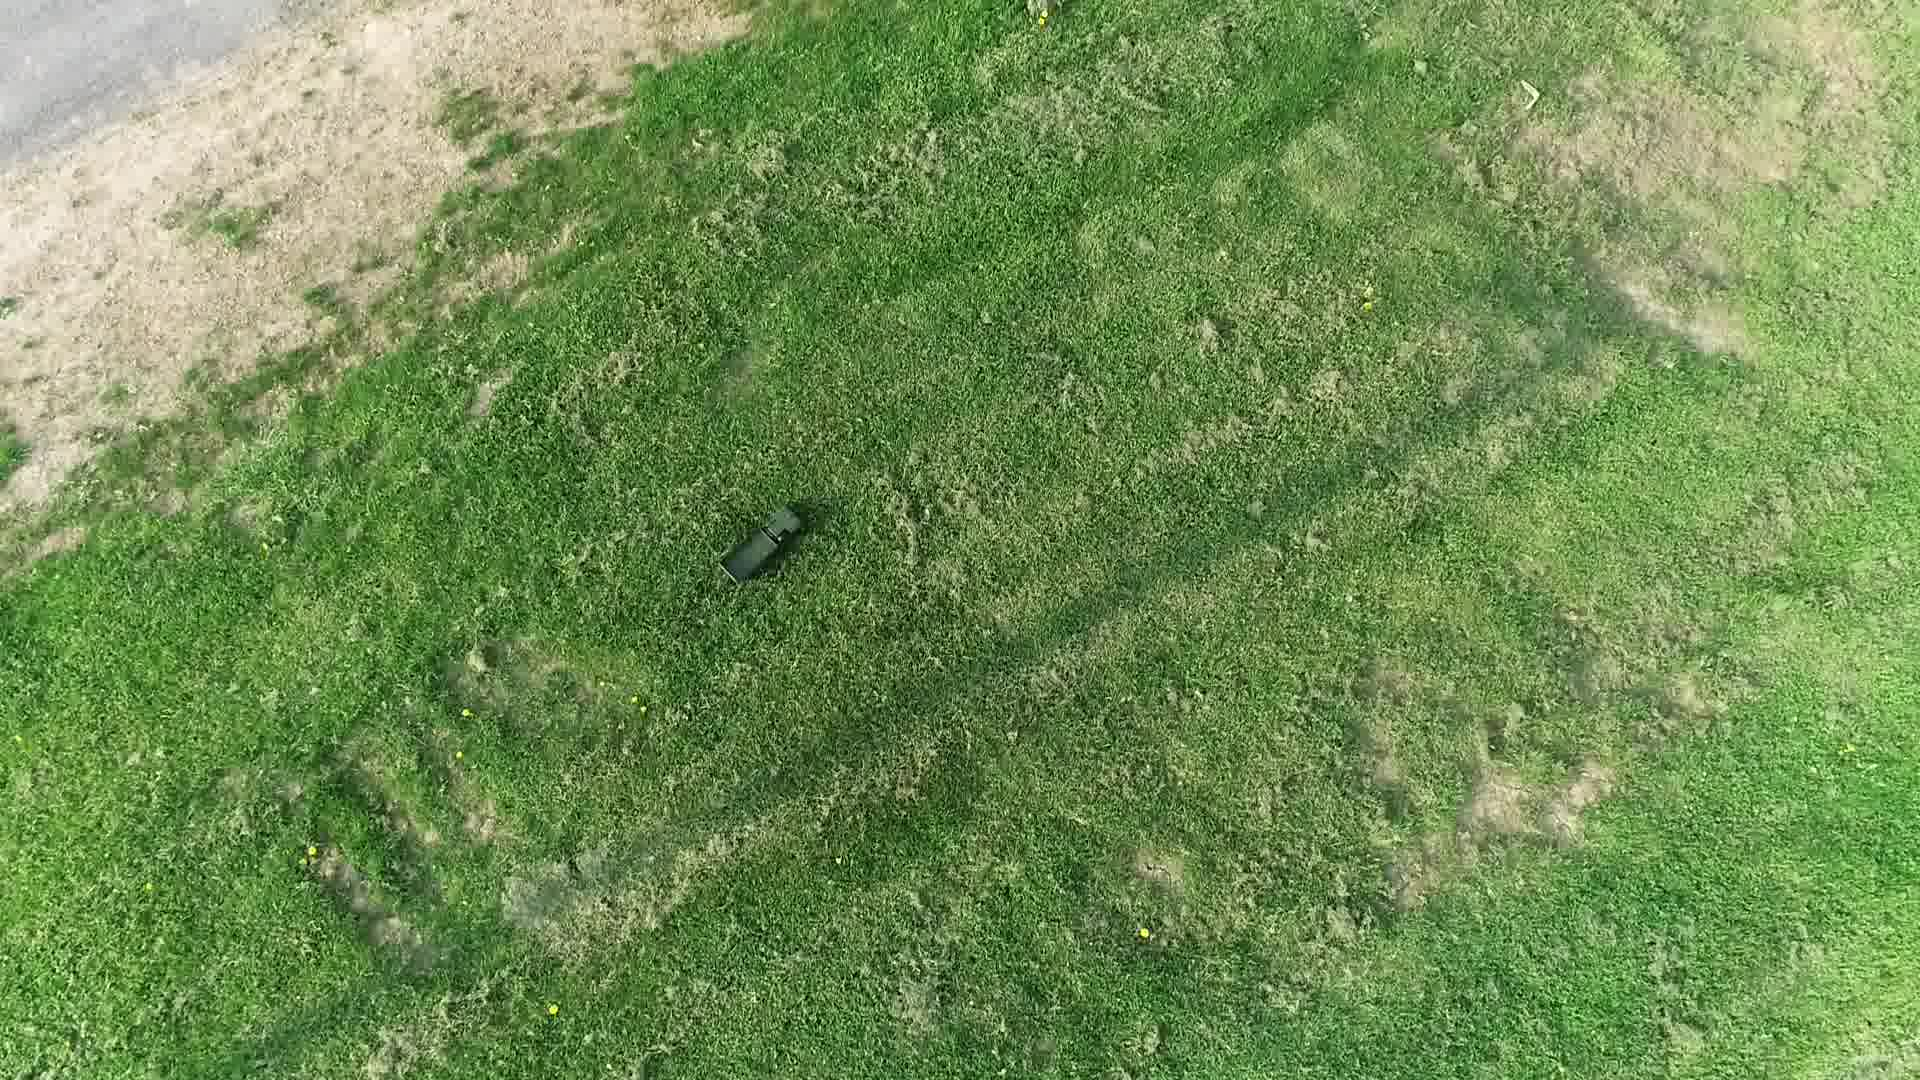transporter9: (712, 500, 811, 591)
